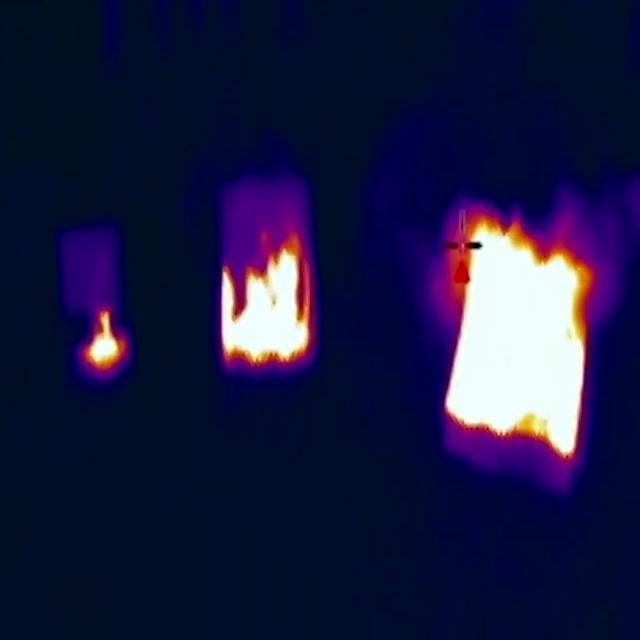fire: (447, 213, 600, 458), (222, 225, 314, 374), (87, 304, 131, 371)
